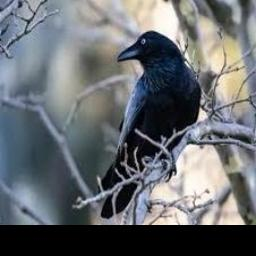Crow: (97, 30, 202, 220)
